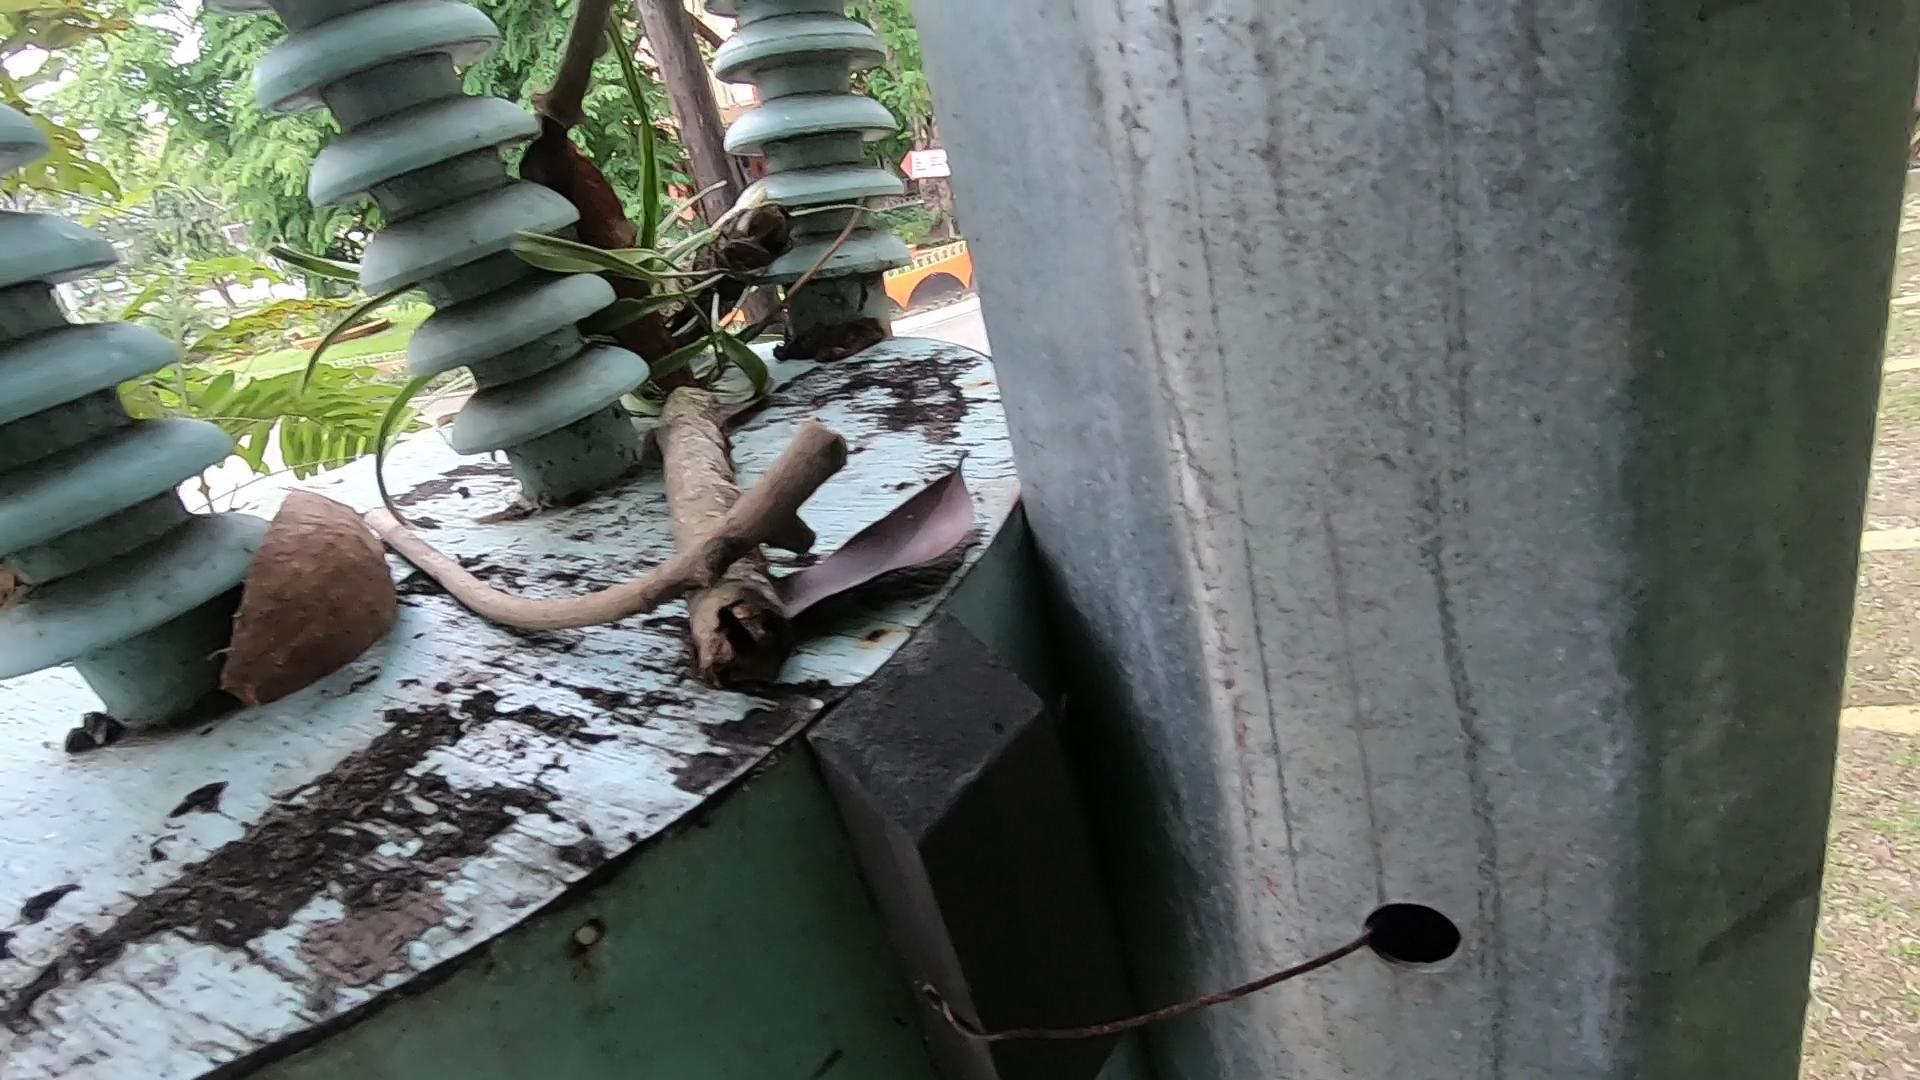branch with leaves: (529, 80, 839, 728)
leaf: (727, 430, 967, 669)
mahogany fruit: (506, 102, 713, 415), (178, 506, 444, 694)
tree branch: (299, 454, 881, 676), (429, 13, 727, 199)
